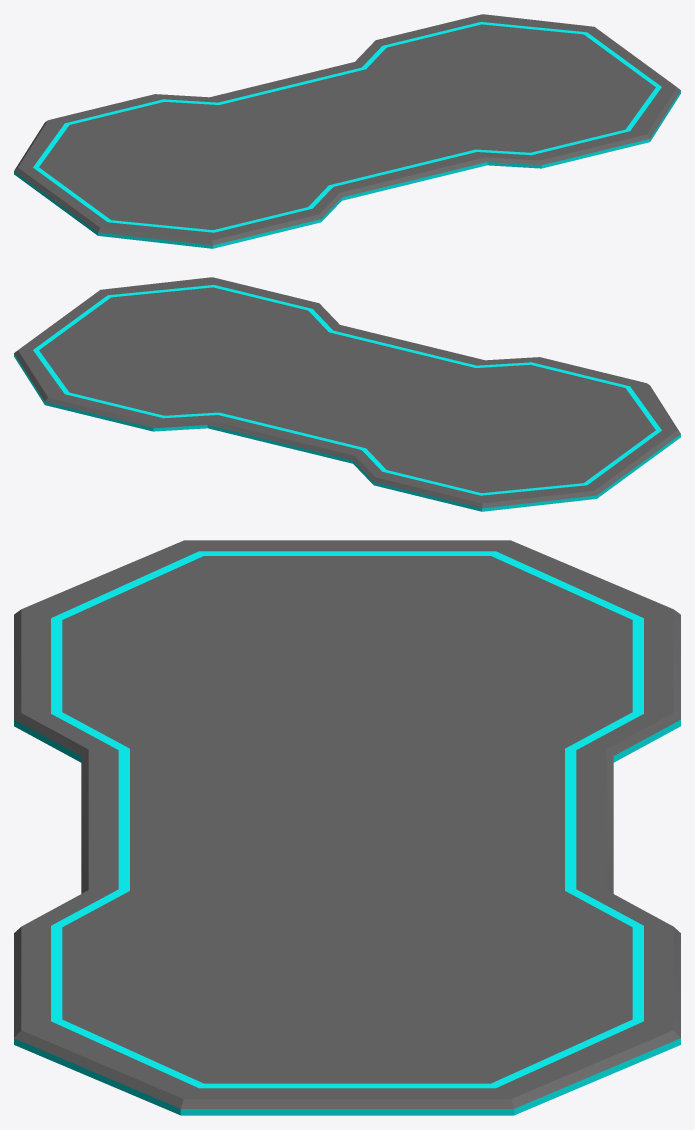
The model's file is Plaza_Lift.fbx.
The picture shows the model from 3 angles, top to bottom: view 1: azimuth 30°, elevation 25°; view 2: azimuth 150°, elevation 25°; view 3: azimuth 270°, elevation 25°; orthographic projection. The views are drawn at different scales.
Parts seen in each view (by area): view 1: Plaza_Lift; view 2: Plaza_Lift; view 3: Plaza_Lift.
Boxes of the visible parts, box(x1,y1,x2,y2) form: Plaza_Lift: box(14, 14, 680, 248); Plaza_Lift: box(14, 277, 680, 511); Plaza_Lift: box(14, 540, 680, 1115).
Bounding box in the file's own units: 16.55 × 0.1821 × 8.26.
